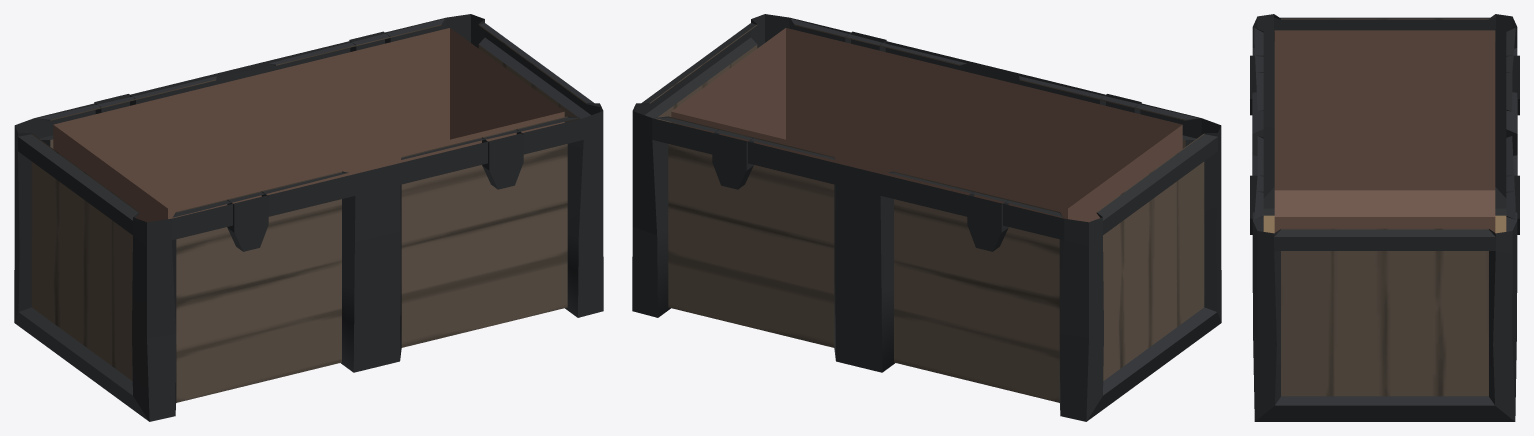
3 views of the same model, side by side, from view 1: azimuth 30°, elevation 25°; view 2: azimuth 150°, elevation 25°; view 3: azimuth 270°, elevation 25° (orthographic). The views are drawn at different scales.
Parts seen in each view (by area): view 1: base; view 2: base; view 3: base.
Boxes of the visible parts, x1,y1,x2,y2 form: base: [14, 14, 603, 421]; base: [632, 14, 1221, 421]; base: [1250, 14, 1519, 421].
Bounding box in the file's own units: 1.18 × 0.48 × 0.6116.
Materials: 2 (1 with a texture image).
